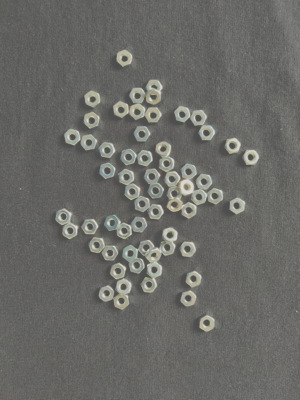nut: (84, 91, 101, 109), (83, 112, 100, 130), (174, 106, 191, 123), (64, 129, 81, 146), (99, 142, 116, 159), (178, 180, 195, 197), (134, 196, 151, 213), (167, 196, 184, 213), (55, 209, 72, 226), (104, 215, 121, 232), (62, 223, 79, 240), (141, 277, 158, 294), (117, 50, 133, 68), (146, 88, 162, 106), (144, 108, 162, 124), (190, 110, 208, 126), (224, 138, 242, 154), (179, 242, 197, 258), (129, 88, 146, 104), (113, 102, 129, 119), (129, 104, 146, 120), (199, 125, 216, 141), (134, 126, 151, 142), (81, 135, 98, 151), (155, 142, 172, 158), (121, 149, 137, 166), (137, 150, 153, 167), (99, 163, 116, 179), (119, 169, 135, 186), (144, 169, 161, 185), (164, 171, 181, 187), (181, 164, 197, 181), (196, 174, 213, 190), (125, 184, 141, 201), (148, 183, 165, 199), (191, 189, 207, 206), (207, 188, 223, 205), (131, 217, 148, 233), (162, 227, 178, 244), (88, 238, 105, 254), (102, 246, 119, 262), (146, 247, 162, 264), (110, 263, 126, 280), (186, 271, 202, 288), (116, 279, 132, 296), (99, 285, 115, 302), (81, 220, 99, 235), (123, 245, 138, 263), (148, 204, 164, 220), (139, 240, 155, 256), (181, 291, 197, 307), (160, 156, 175, 173), (230, 198, 245, 215), (182, 202, 197, 219), (117, 223, 132, 240), (147, 262, 162, 279), (200, 315, 215, 332), (243, 150, 259, 165), (129, 259, 145, 274), (114, 294, 129, 310), (159, 242, 176, 256), (146, 80, 163, 92), (167, 187, 183, 199)
